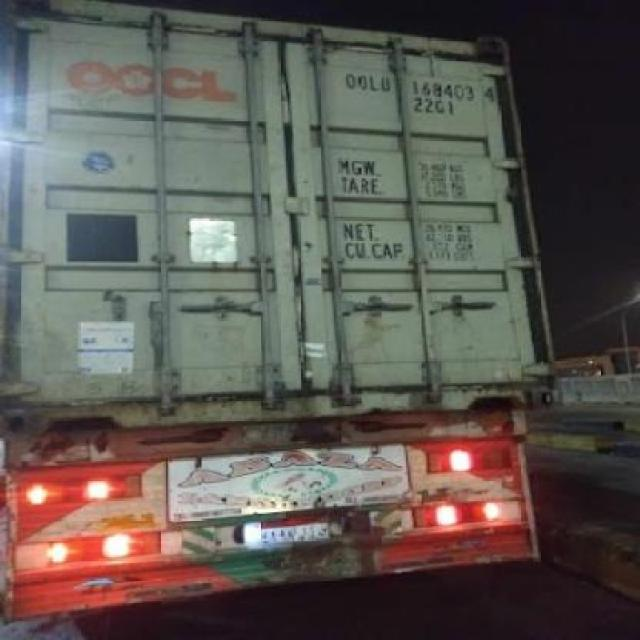ISO: (416, 99, 456, 116)
container_number: (348, 77, 494, 100)
